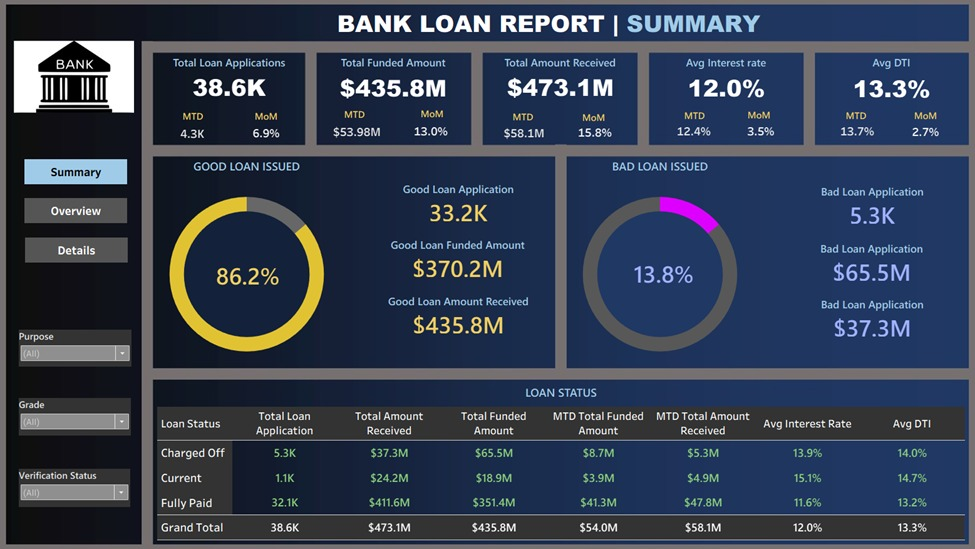

What the dashboard file says about the page in this screenshot:
{"tool":"tableau","page":{"name":"SUMMARY","canvas":[1600,900],"ordinal":2},"visuals":[{"type":"image","param":"Image/Tableau Background 1.jpg","box":[8,8,1584,884]},{"type":"text","box":[556,24,682,50]},{"type":"image","param":"Image/bank logo 1.jpg","box":[43,77,193,115]},{"type":"worksheet","title":"Total Loan Applications","mark":"Automatic","box":[264,96,246,72]},{"type":"worksheet","title":"Total Funded Amount","mark":"Automatic","box":[525,96,248,73]},{"type":"worksheet","title":"Total Amount Received","mark":"Automatic","box":[793,96,245,72]},{"type":"worksheet","title":"Avg Interest rate","mark":"Automatic","box":[1056,96,249,74]},{"type":"worksheet","title":"Avg DTI","mark":"Automatic","box":[1322,96,245,76]},{"type":"text","box":[661,178,100,30]},{"type":"text","box":[537,179,100,30]},{"type":"text","box":[1183,180,100,30]},{"type":"text","box":[1080,181,100,30]},{"type":"text","box":[1338,181,100,30]},{"type":"text","box":[1449,181,100,30]},{"type":"text","box":[279,182,100,30]},{"type":"text","box":[396,182,100,30]},{"type":"text","box":[806,183,100,30]},{"type":"text","box":[919,184,100,30]},{"type":"worksheet","title":"MTD Avg Interest Rate","mark":"Automatic","box":[1076,198,106,45]},{"type":"worksheet","title":"MoM Total Funded Amount","mark":"Automatic","box":[664,199,89,43]},{"type":"worksheet","title":"MoM Avg Interest Rate","mark":"Automatic","box":[1184,200,104,42]},{"type":"worksheet","title":"MTD Total Funded Amount","mark":"Automatic","box":[545,201,91,42]},{"type":"worksheet","title":"MTD Avg DTI","mark":"Automatic","box":[1340,201,100,40]},{"type":"worksheet","title":"MoM Avg DTI","mark":"Automatic","box":[1450,201,97,42]},{"type":"worksheet","title":"MoM Total Amount Received","mark":"Automatic","box":[916,203,109,40]},{"type":"worksheet","title":"MTD Total Amount Received","mark":"Automatic","box":[808,205,99,38]},{"type":"worksheet","title":"MoM Loan Applications","mark":"Automatic","box":[403,206,85,35]},{"type":"worksheet","title":"MTD Total Loan Applications","mark":"Automatic","box":[278,207,99,36]},{"type":"worksheet","title":"Good Loan Issued","mark":"Pie","rows":["Calculation_1368249892575375396","Calculation_1368249892575375396"],"box":[265,261,300,338]},{"type":"worksheet","title":"Bad Loan Issued ","mark":"Pie","rows":["Calculation_1368249892575375396","Calculation_1368249892575375396"],"box":[925,261,300,338]},{"type":"dashboard-object","box":[60,266,164,40]},{"type":"worksheet","title":"Good Loan Application","mark":"Automatic","box":[603,294,300,75]},{"type":"worksheet","title":"Bad Loan Application","mark":"Automatic","box":[1264,298,300,75]},{"type":"dashboard-object","box":[60,328,164,40]},{"type":"worksheet","title":"Good Loan Funded Amount","mark":"Automatic","box":[602,383,300,75]},{"type":"worksheet","title":"Bad Loan Funded Amount","mark":"Automatic","box":[1263,389,300,75]},{"type":"dashboard-object","box":[61,391,164,40]},{"type":"worksheet","title":"Bad Loan %","mark":"Automatic","box":[1014,410,133,77]},{"type":"worksheet","title":"Good Loan Application %","mark":"Automatic","box":[350,420,133,64]},{"type":"worksheet","title":"Good Loan Amount Received","mark":"Automatic","box":[603,473,300,75]},{"type":"worksheet","title":"Bad Loan Amount Received","mark":"Automatic","box":[1264,478,300,75]},{"type":"filter","title":"Good Loan Issued","param":"[federated.17a3cjb1kal9qm1h4xumb0o6jc69].[none:purpose:nk]","box":[51,538,180,59]},{"type":"worksheet","title":"LOAN STATUS","mark":"Automatic","rows":["loan_status"],"box":[272,622,1290,252]},{"type":"filter","title":"Good Loan Issued","param":"[federated.17a3cjb1kal9qm1h4xumb0o6jc69].[none:grade:nk]","box":[51,647,179,60]},{"type":"filter","title":"Good Loan Issued","param":"[federated.17a3cjb1kal9qm1h4xumb0o6jc69].[none:verification_status:nk]","box":[51,760,178,61]}]}

Visuals, with their boxes in screenshot pixels (x1, y1, x2, y2), scaled from the page's 1600x900 canvas onto the 975x549 screenshot:
image: [x1=5, y1=5, x2=970, y2=544]
text: [x1=339, y1=15, x2=754, y2=45]
image: [x1=26, y1=47, x2=144, y2=117]
"Total Loan Applications" worksheet: [x1=161, y1=59, x2=311, y2=102]
"Total Funded Amount" worksheet: [x1=320, y1=59, x2=471, y2=103]
"Total Amount Received" worksheet: [x1=483, y1=59, x2=633, y2=102]
"Avg Interest rate" worksheet: [x1=644, y1=59, x2=795, y2=104]
"Avg DTI" worksheet: [x1=806, y1=59, x2=955, y2=105]
text: [x1=403, y1=109, x2=464, y2=127]
text: [x1=327, y1=109, x2=388, y2=127]
text: [x1=721, y1=110, x2=782, y2=128]
text: [x1=658, y1=110, x2=719, y2=129]
text: [x1=815, y1=110, x2=876, y2=129]
text: [x1=883, y1=110, x2=944, y2=129]
text: [x1=170, y1=111, x2=231, y2=129]
text: [x1=241, y1=111, x2=302, y2=129]
text: [x1=491, y1=112, x2=552, y2=130]
text: [x1=560, y1=112, x2=621, y2=131]
"MTD Avg Interest Rate" worksheet: [x1=656, y1=121, x2=720, y2=148]
"MoM Total Funded Amount" worksheet: [x1=405, y1=121, x2=459, y2=148]
"MoM Avg Interest Rate" worksheet: [x1=722, y1=122, x2=785, y2=148]
"MTD Total Funded Amount" worksheet: [x1=332, y1=123, x2=388, y2=148]
"MTD Avg DTI" worksheet: [x1=817, y1=123, x2=878, y2=147]
"MoM Avg DTI" worksheet: [x1=884, y1=123, x2=943, y2=148]
"MoM Total Amount Received" worksheet: [x1=558, y1=124, x2=625, y2=148]
"MTD Total Amount Received" worksheet: [x1=492, y1=125, x2=553, y2=148]
"MoM Loan Applications" worksheet: [x1=246, y1=126, x2=297, y2=147]
"MTD Total Loan Applications" worksheet: [x1=169, y1=126, x2=230, y2=148]
"Good Loan Issued" worksheet (Pie marks): [x1=161, y1=159, x2=344, y2=365]
"Bad Loan Issued " worksheet (Pie marks): [x1=564, y1=159, x2=746, y2=365]
dashboard-object: [x1=37, y1=162, x2=136, y2=187]
"Good Loan Application" worksheet: [x1=367, y1=179, x2=550, y2=225]
"Bad Loan Application" worksheet: [x1=770, y1=182, x2=953, y2=228]
dashboard-object: [x1=37, y1=200, x2=136, y2=224]
"Good Loan Funded Amount" worksheet: [x1=367, y1=234, x2=550, y2=279]
"Bad Loan Funded Amount" worksheet: [x1=770, y1=237, x2=952, y2=283]
dashboard-object: [x1=37, y1=239, x2=137, y2=263]
"Bad Loan %" worksheet: [x1=618, y1=250, x2=699, y2=297]
"Good Loan Application %" worksheet: [x1=213, y1=256, x2=294, y2=295]
"Good Loan Amount Received" worksheet: [x1=367, y1=289, x2=550, y2=334]
"Bad Loan Amount Received" worksheet: [x1=770, y1=292, x2=953, y2=337]
"Good Loan Issued" filter: [x1=31, y1=328, x2=141, y2=364]
"LOAN STATUS" worksheet: [x1=166, y1=379, x2=952, y2=533]
"Good Loan Issued" filter: [x1=31, y1=395, x2=140, y2=431]
"Good Loan Issued" filter: [x1=31, y1=464, x2=140, y2=501]
